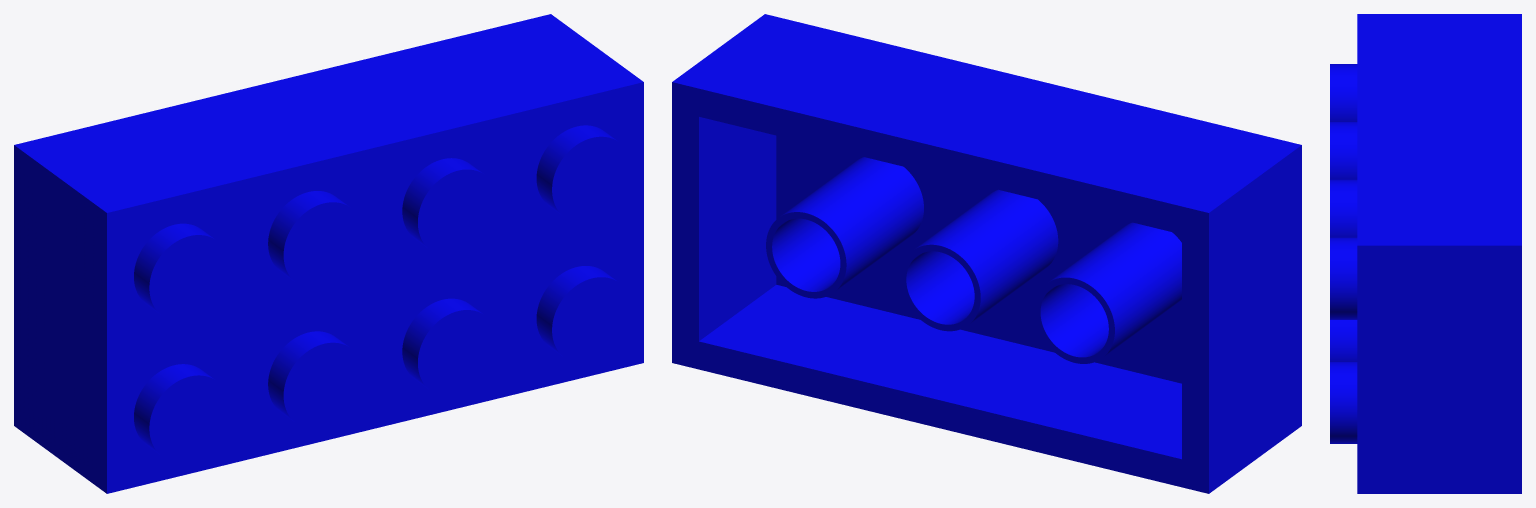
File: mb2x4x1_fine.gltf
The picture shows the model from 3 angles, left to right: view 1: azimuth 30°, elevation 25°; view 2: azimuth 150°, elevation 25°; view 3: azimuth 270°, elevation 25°; orthographic projection. The views are drawn at different scales.
Visible parts, largest first — view 1: mesh8_meshnode_8, mesh7_meshnode_7, mesh4_meshnode_4, mesh16_meshnode_16, mesh18_meshnode_18, mesh22_meshnode_22, mesh12_meshnode_12, mesh26_meshnode_26, mesh14_meshnode_14, mesh20_meshnode_20, mesh24_meshnode_24, mesh25_meshnode_25 (+7 smaller); view 2: mesh7_meshnode_7, mesh9_meshnode_9, mesh0_meshnode_0, mesh4_meshnode_4, mesh10_meshnode_10, mesh3_meshnode_3, mesh28_meshnode_28, mesh36_meshnode_36, mesh32_meshnode_32, mesh31_meshnode_31, mesh35_meshnode_35, mesh27_meshnode_27 (+3 smaller); view 3: mesh6_meshnode_6, mesh7_meshnode_7, mesh17_meshnode_17, mesh25_meshnode_25, mesh15_meshnode_15, mesh11_meshnode_11, mesh13_meshnode_13, mesh23_meshnode_23.
Part boxes in pixels (bbox=[...]): mesh8_meshnode_8: bbox=[107, 82, 643, 493]; mesh7_meshnode_7: bbox=[14, 14, 643, 212]; mesh4_meshnode_4: bbox=[14, 145, 106, 493]; mesh16_meshnode_16: bbox=[418, 169, 498, 255]; mesh18_meshnode_18: bbox=[552, 136, 632, 223]; mesh22_meshnode_22: bbox=[283, 342, 363, 429]; mesh12_meshnode_12: bbox=[149, 235, 229, 321]; mesh26_meshnode_26: bbox=[552, 277, 632, 363]; mesh14_meshnode_14: bbox=[283, 202, 363, 288]; mesh20_meshnode_20: bbox=[149, 375, 229, 461]; mesh24_meshnode_24: bbox=[418, 310, 498, 396]; mesh25_meshnode_25: bbox=[536, 266, 616, 356]; mesh7_meshnode_7: bbox=[672, 14, 1301, 212]; mesh9_meshnode_9: bbox=[672, 82, 1208, 493]; mesh0_meshnode_0: bbox=[699, 285, 1181, 459]; mesh4_meshnode_4: bbox=[1209, 145, 1301, 493]; mesh10_meshnode_10: bbox=[776, 135, 1181, 383]; mesh3_meshnode_3: bbox=[699, 117, 776, 340]; mesh28_meshnode_28: bbox=[915, 189, 1058, 323]; mesh36_meshnode_36: bbox=[781, 157, 923, 291]; mesh32_meshnode_32: bbox=[1050, 222, 1181, 356]; mesh31_meshnode_31: bbox=[1040, 284, 1108, 357]; mesh35_meshnode_35: bbox=[772, 218, 840, 291]; mesh27_meshnode_27: bbox=[906, 251, 974, 324]; mesh6_meshnode_6: bbox=[1357, 245, 1521, 493]; mesh7_meshnode_7: bbox=[1357, 14, 1521, 245]; mesh17_meshnode_17: bbox=[1330, 237, 1357, 319]; mesh25_meshnode_25: bbox=[1330, 362, 1357, 443]; mesh15_meshnode_15: bbox=[1330, 179, 1357, 237]; mesh11_meshnode_11: bbox=[1330, 64, 1357, 121]; mesh13_meshnode_13: bbox=[1330, 122, 1357, 179]; mesh23_meshnode_23: bbox=[1330, 320, 1357, 361].
Size of the model in its own units: 0.8128 by 0.4064 by 0.2845.
